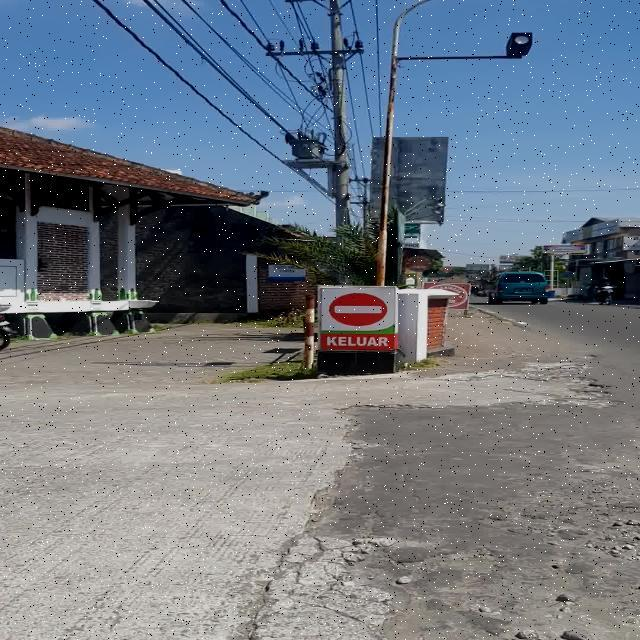Dilarang Masuk: (329, 292, 387, 326)
